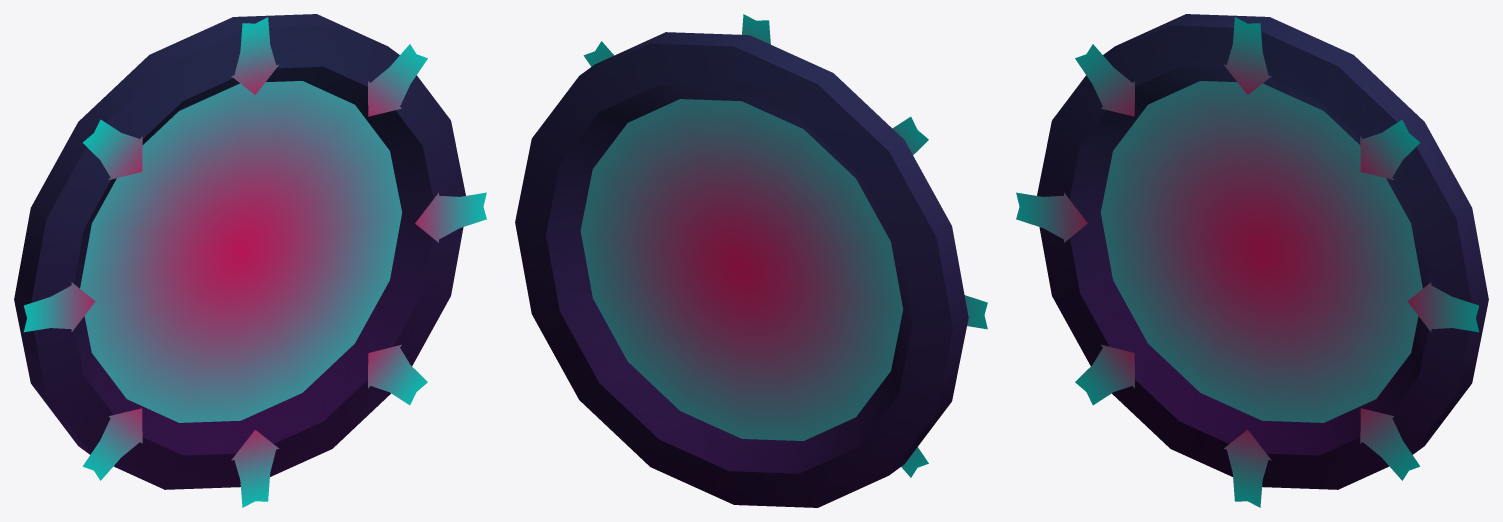
File: SM_Portal_Float.fbx
3 renders of one model, left to right at view 1: azimuth 30°, elevation 25°; view 2: azimuth 150°, elevation 25°; view 3: azimuth 330°, elevation 25°, orthographic.
Parts seen in each view (by area): view 1: SM_PortalDisc; view 2: SM_PortalDisc; view 3: SM_PortalDisc.
Part boxes in pixels (x1=…): SM_PortalDisc: x1=14, y1=14, x2=486, y2=507; SM_PortalDisc: x1=515, y1=14, x2=987, y2=507; SM_PortalDisc: x1=1016, y1=14, x2=1488, y2=507.
Bounding box in the file's own units: 412 × 412 × 41.62.
